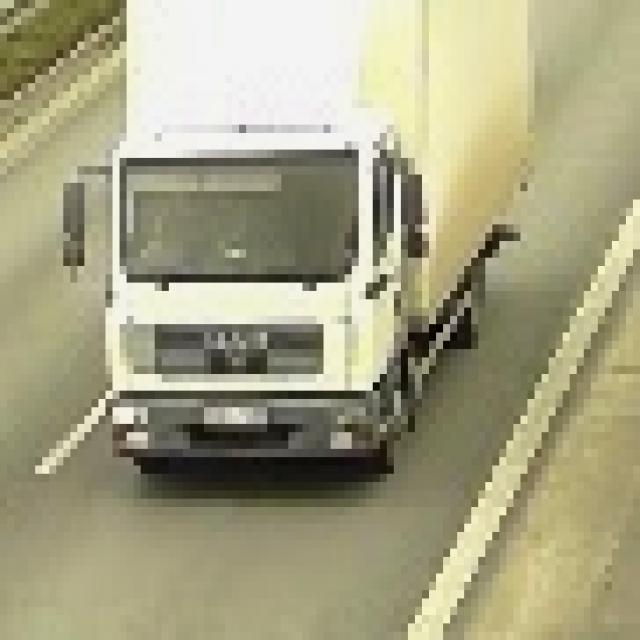truck: (57, 1, 528, 491)
